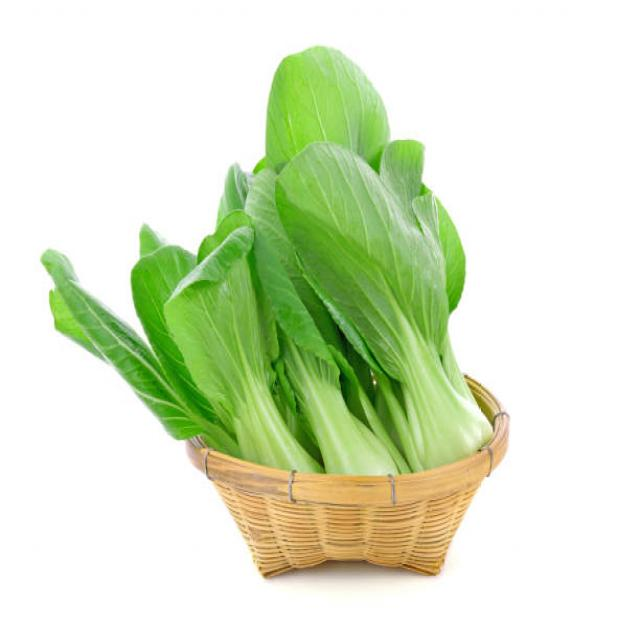Bok Choy: (398, 140, 520, 474), (177, 231, 281, 458), (314, 299, 400, 480)
